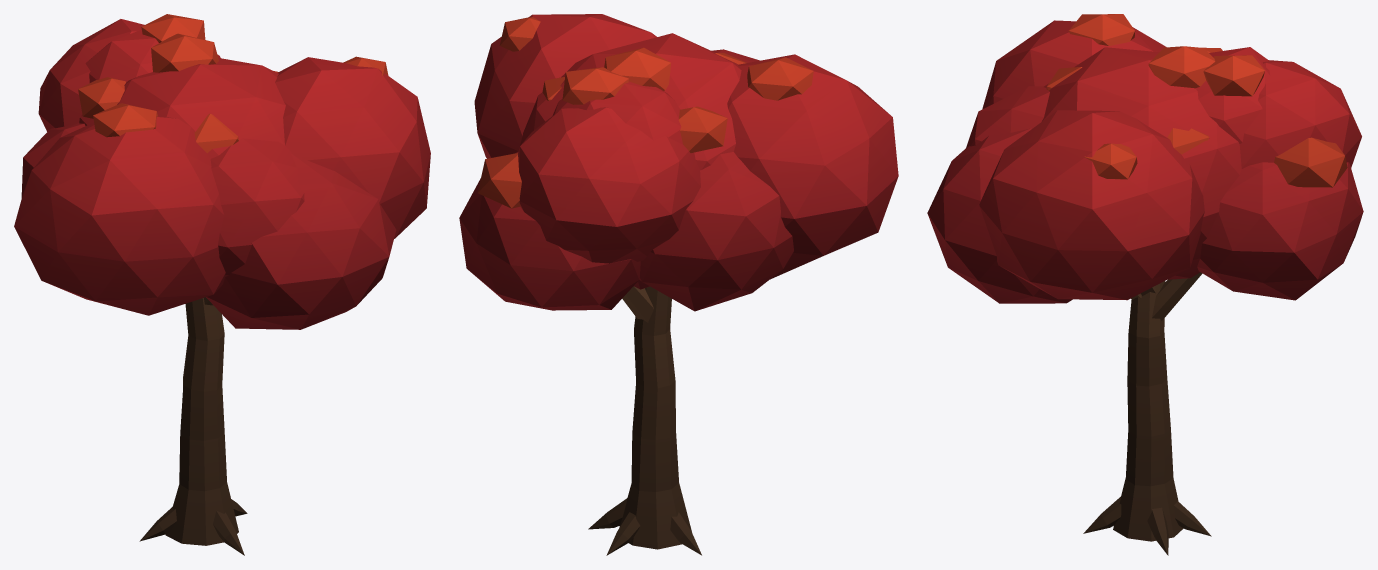
Rendered from tree_autumn_maple_01.glb.
The picture shows the model from 3 angles, left to right: view 1: azimuth 30°, elevation 25°; view 2: azimuth 150°, elevation 25°; view 3: azimuth 270°, elevation 25°; orthographic projection. The views are drawn at different scales.
Parts seen in each view (by area): view 1: tree_autumn_maple_01_LOD0; view 2: tree_autumn_maple_01_LOD0; view 3: tree_autumn_maple_01_LOD0.
Part boxes in pixels (x1=…): tree_autumn_maple_01_LOD0: x1=14, y1=14, x2=430, y2=555; tree_autumn_maple_01_LOD0: x1=459, y1=14, x2=898, y2=555; tree_autumn_maple_01_LOD0: x1=927, y1=14, x2=1363, y2=555.
Size of what is drawn, in the model's own units: 3.66 by 4.42 by 3.62.
1 material, 1 textured.
